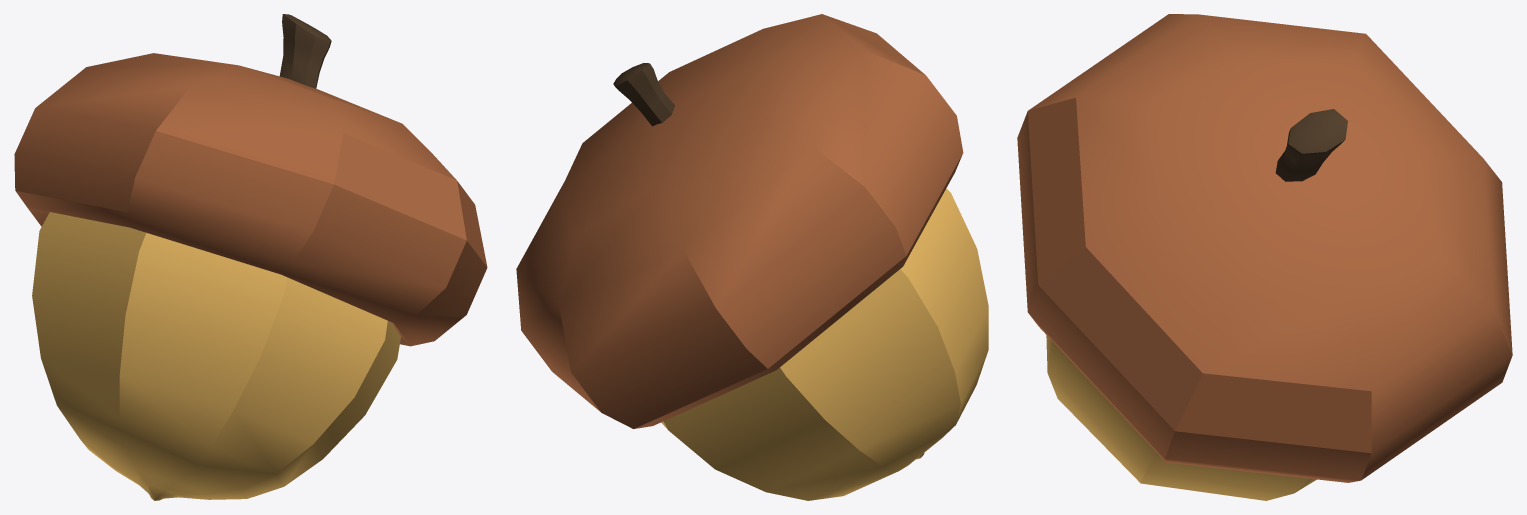
Rendered from acorn_test.fbx.
3 views of the same model, side by side, from view 1: azimuth 30°, elevation 25°; view 2: azimuth 150°, elevation 25°; view 3: azimuth 270°, elevation 25° (orthographic). The views are drawn at different scales.
Visible parts, largest first — view 1: Cube.014; view 2: Cube.014; view 3: Cube.014.
Boxes of the visible parts, left/top/right/bottom form: Cube.014: left=14, top=14, right=487, bottom=500; Cube.014: left=516, top=14, right=988, bottom=500; Cube.014: left=1017, top=14, right=1512, bottom=500.
Bounding box in the file's own units: 16.41 × 16.15 × 15.93.
